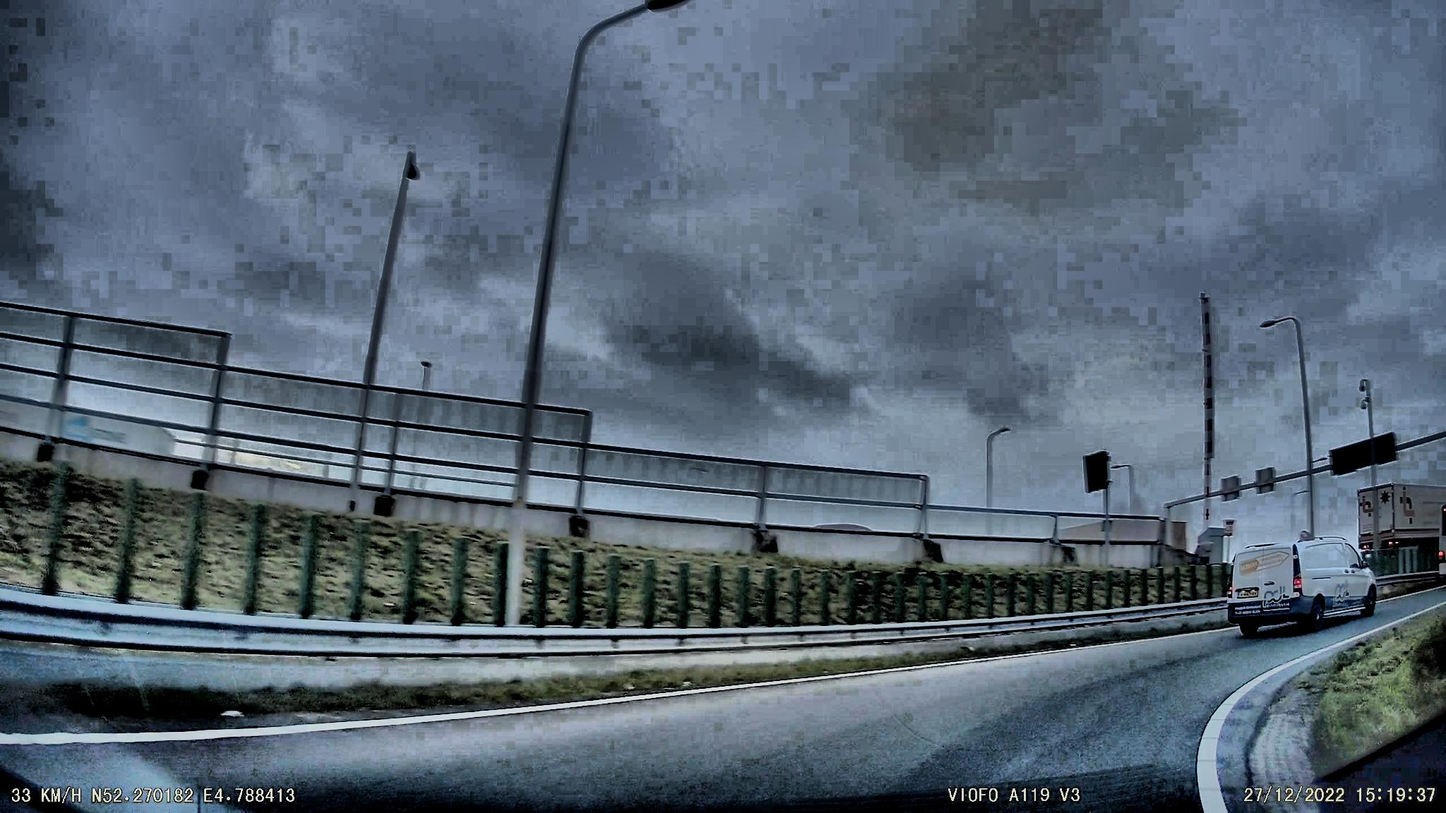Roads: (0, 615, 1384, 813)
